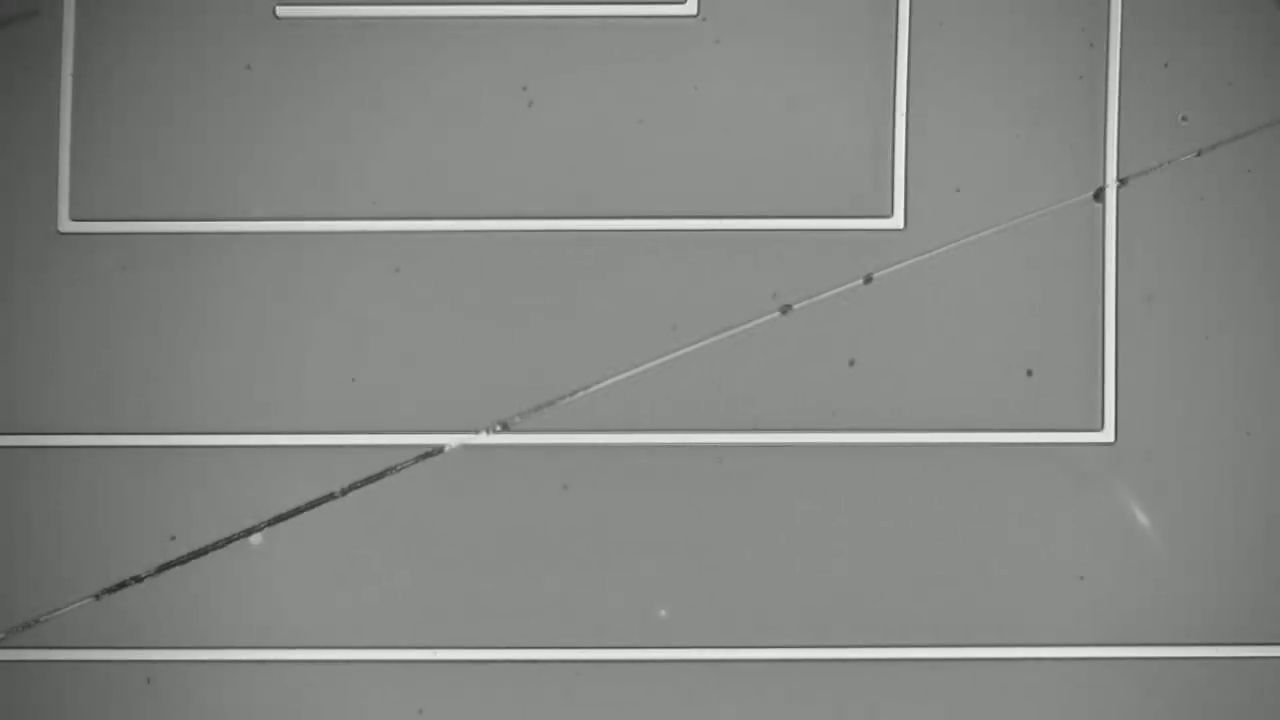scratch: (13, 119, 1275, 632)
